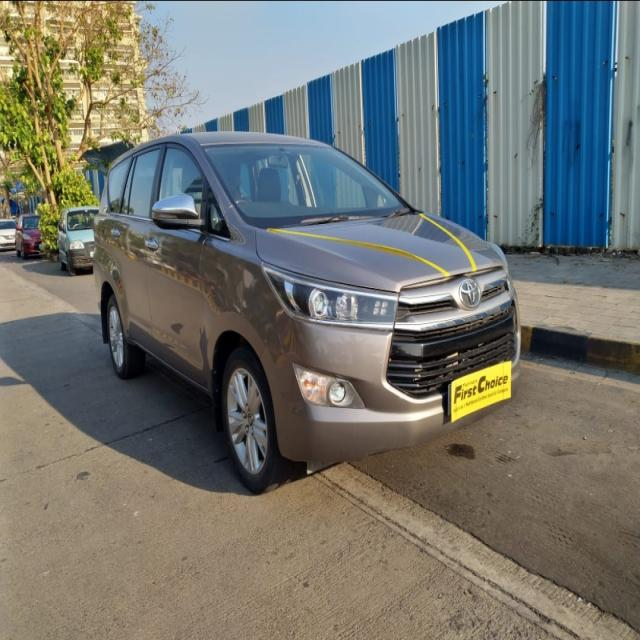light_vehicle: (90, 130, 522, 493)
